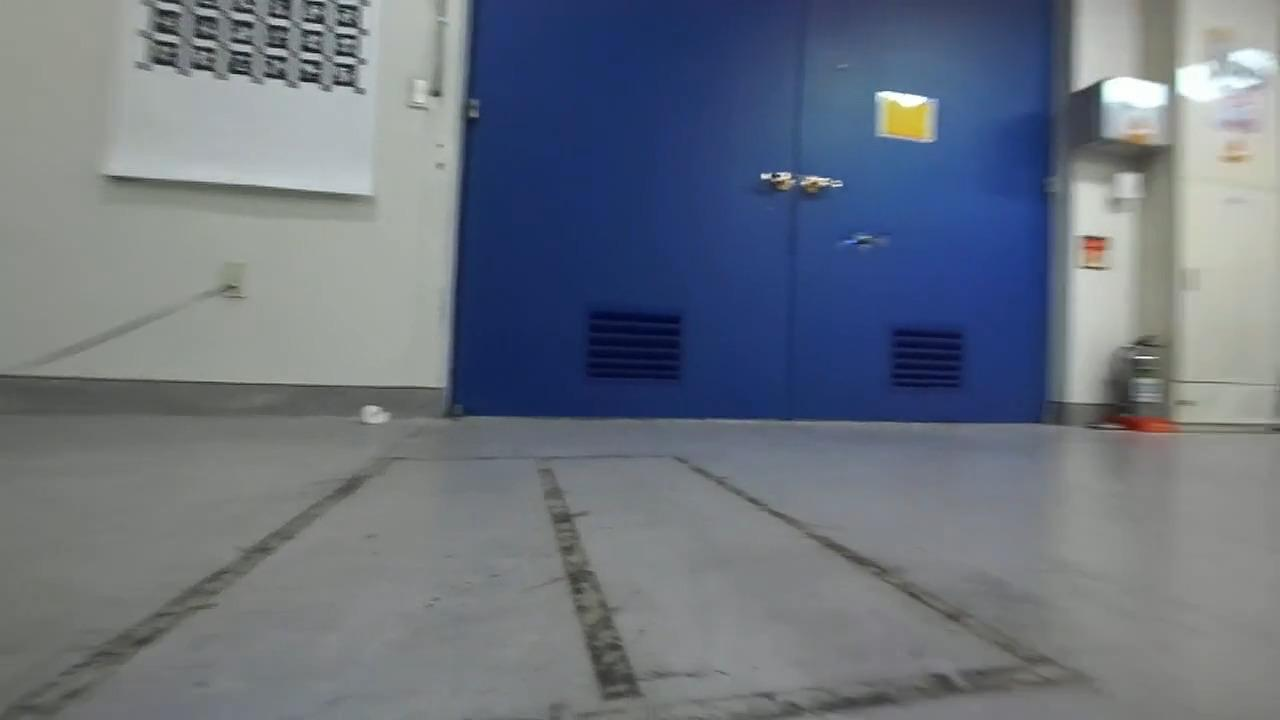crazyflie: (830, 225, 894, 257)
